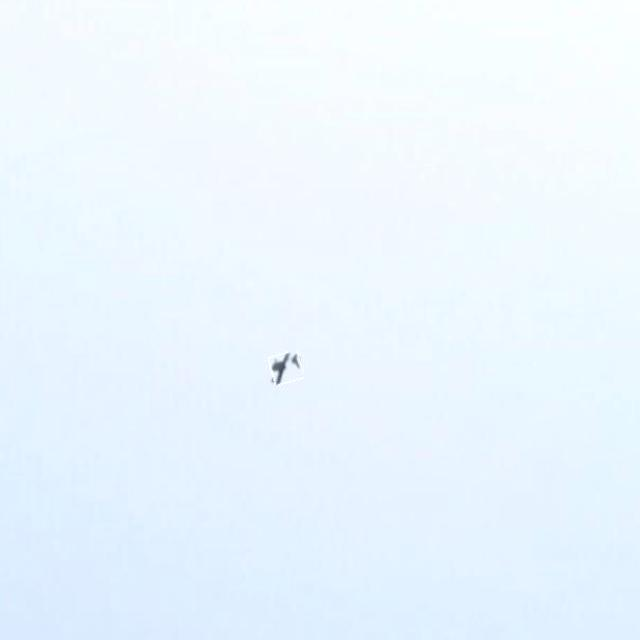plane: (266, 350, 303, 388)
